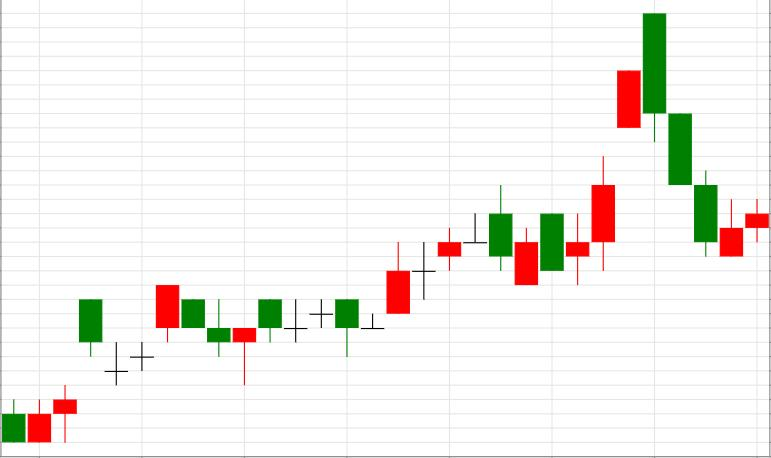three_black_crows_fall: (516, 12, 718, 286)
